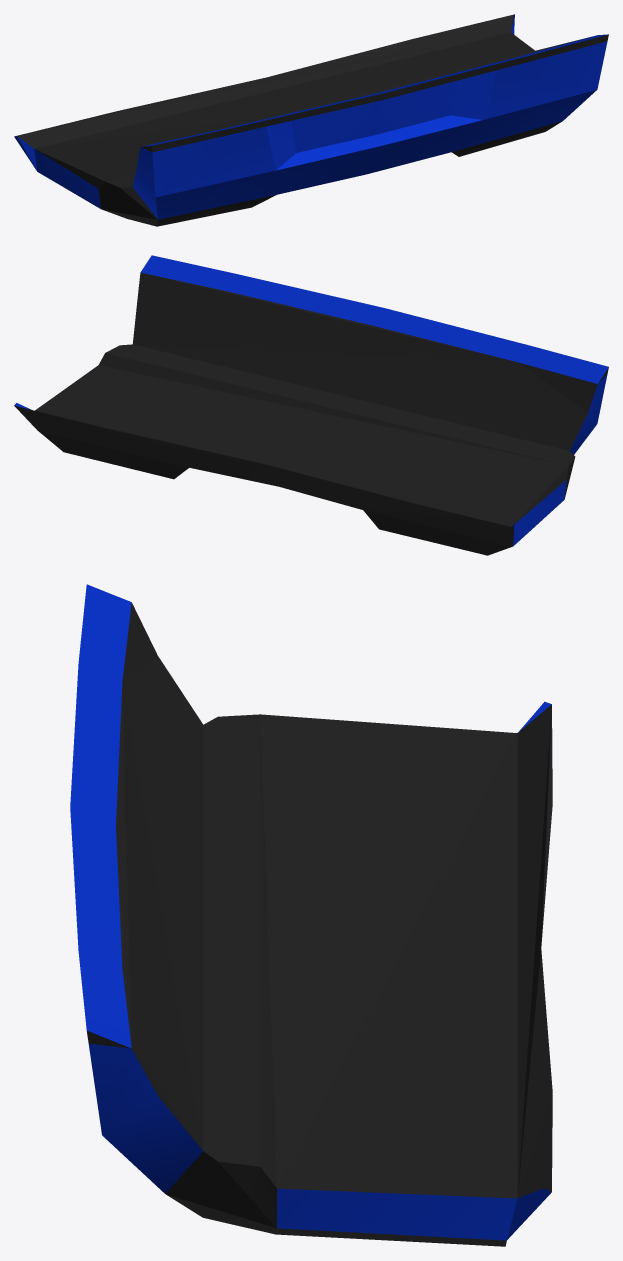
File: Classic_1_Bumper_R_3.fbx
3 renders of one model, top to bottom at view 1: azimuth 30°, elevation 25°; view 2: azimuth 150°, elevation 25°; view 3: azimuth 270°, elevation 25°, orthographic. The views are drawn at different scales.
Visible parts, largest first — view 1: Classic_1_Bumper_R_3; view 2: Classic_1_Bumper_R_3; view 3: Classic_1_Bumper_R_3.
Boxes of the visible parts, bbox=[...] form: Classic_1_Bumper_R_3: bbox=[14, 14, 608, 226]; Classic_1_Bumper_R_3: bbox=[14, 255, 608, 555]; Classic_1_Bumper_R_3: bbox=[70, 584, 552, 1246].
Bounding box in the file's own units: 176 × 39.55 × 73.65.
